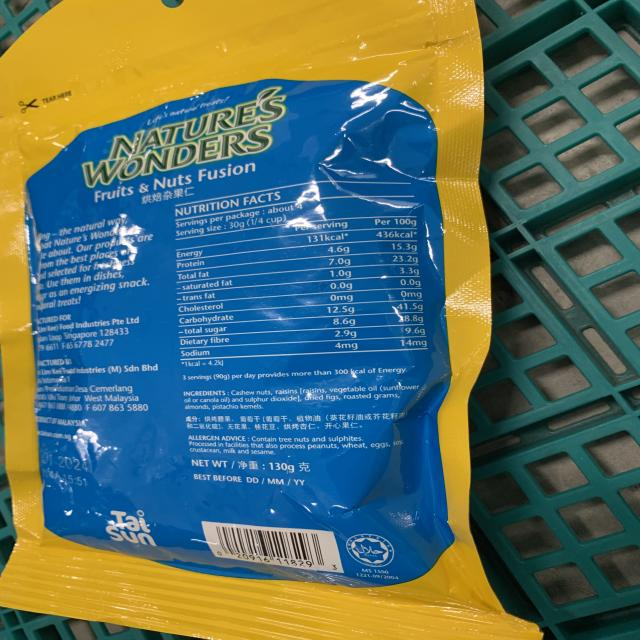object_name: (4, 2, 483, 640)
